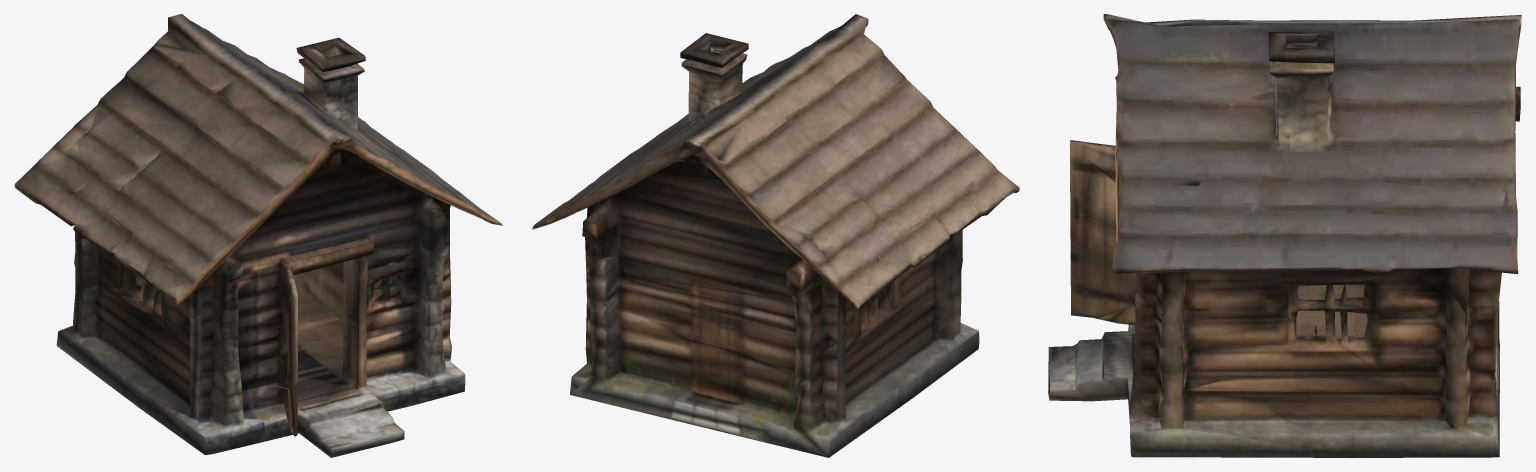
Rendered from cabin.glb.
3 views of the same model, side by side, from view 1: azimuth 30°, elevation 25°; view 2: azimuth 150°, elevation 25°; view 3: azimuth 270°, elevation 25° (orthographic). The views are drawn at different scales.
Size of the model in its own units: 1.95 by 1.76 by 2.
Materials: 1 (1 with a texture image).
